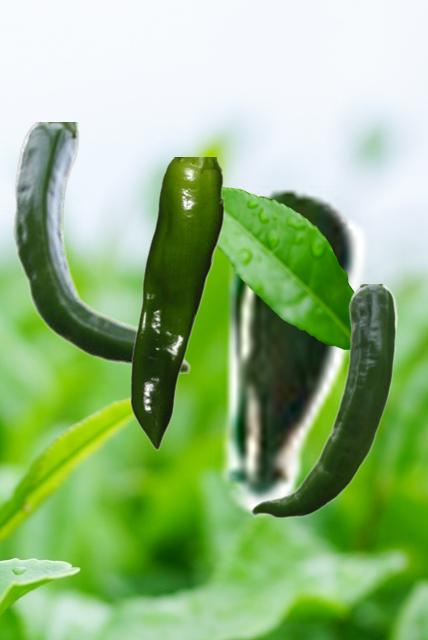green_chili: (212, 186, 370, 516), (13, 122, 190, 372), (250, 284, 397, 518), (129, 157, 223, 449)
